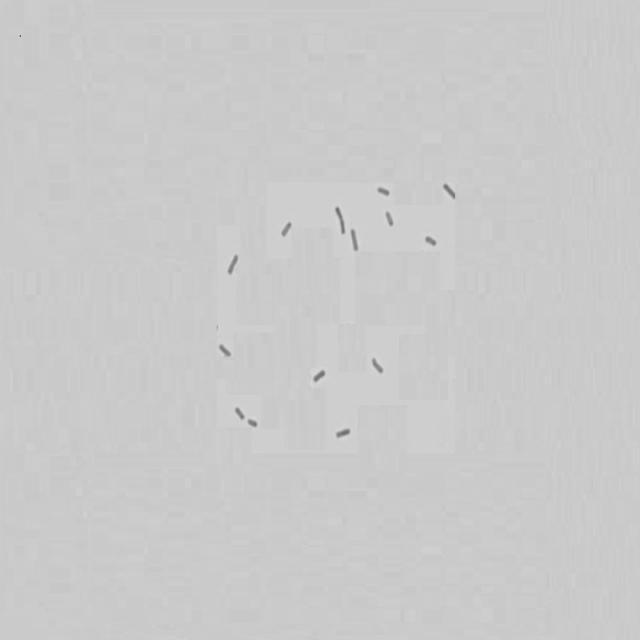E-coli: (439, 176, 461, 207), (330, 205, 347, 239), (369, 354, 387, 383), (216, 336, 234, 364), (226, 248, 241, 278), (383, 206, 398, 234), (422, 230, 440, 251), (334, 424, 355, 442), (279, 218, 295, 240), (309, 366, 328, 384), (373, 182, 392, 199), (233, 402, 247, 423), (350, 226, 360, 255), (247, 415, 259, 433)
